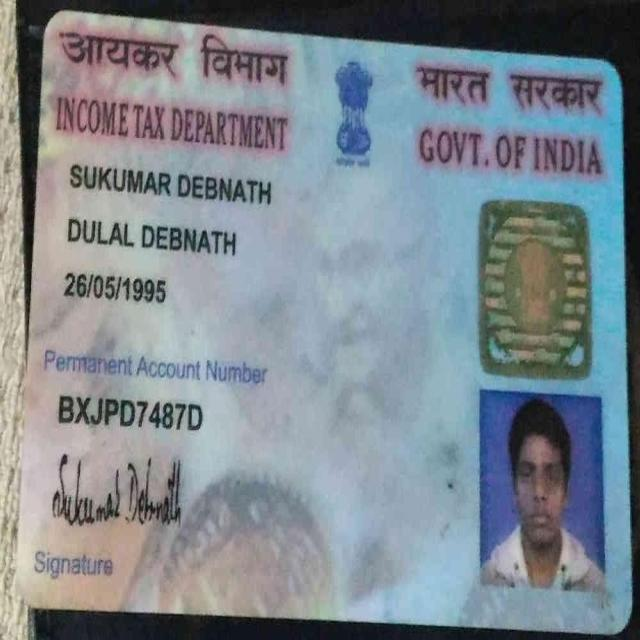pan_card: (21, 17, 626, 630)
